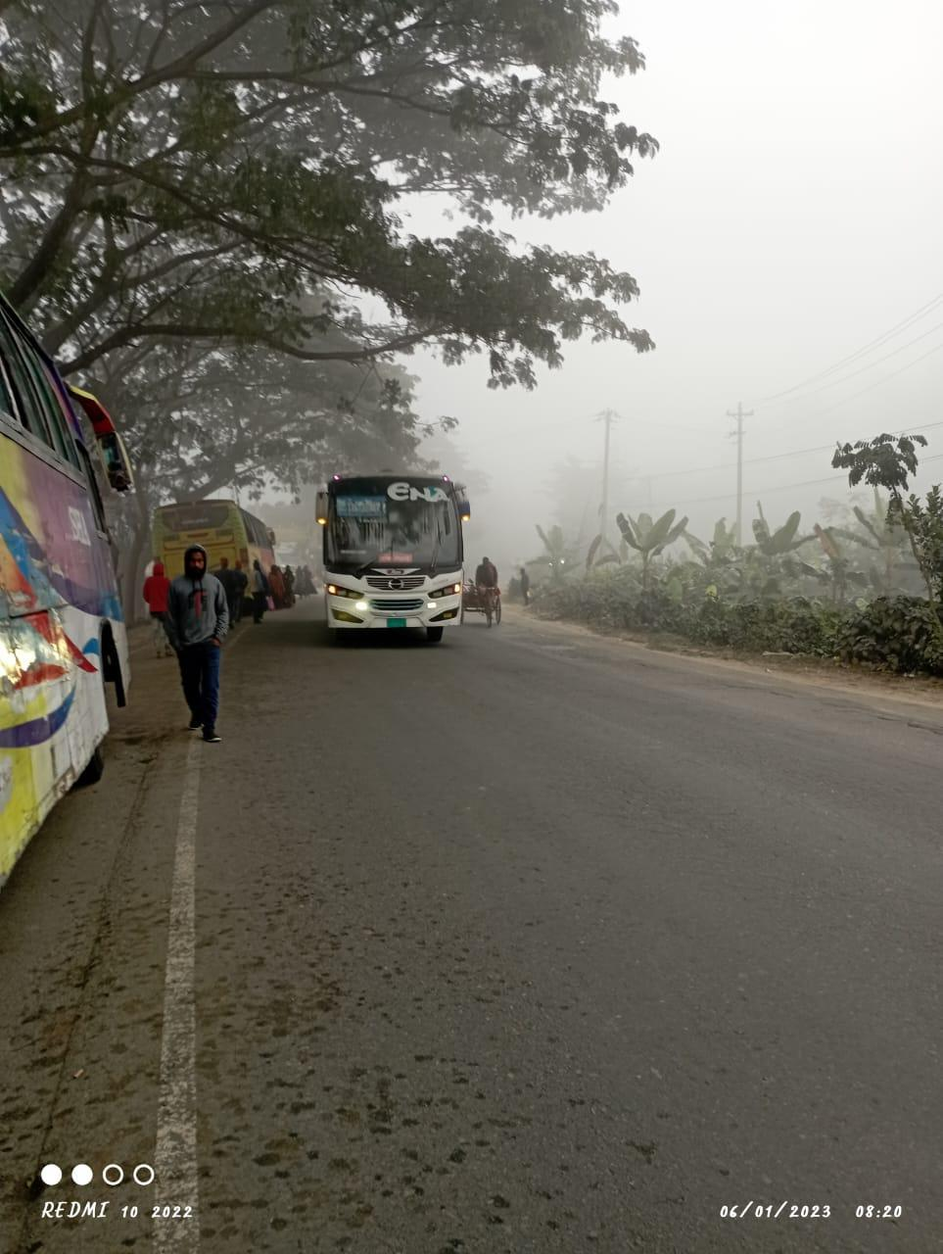Bus: (1, 278, 146, 875), (303, 463, 478, 651), (146, 493, 286, 603)
